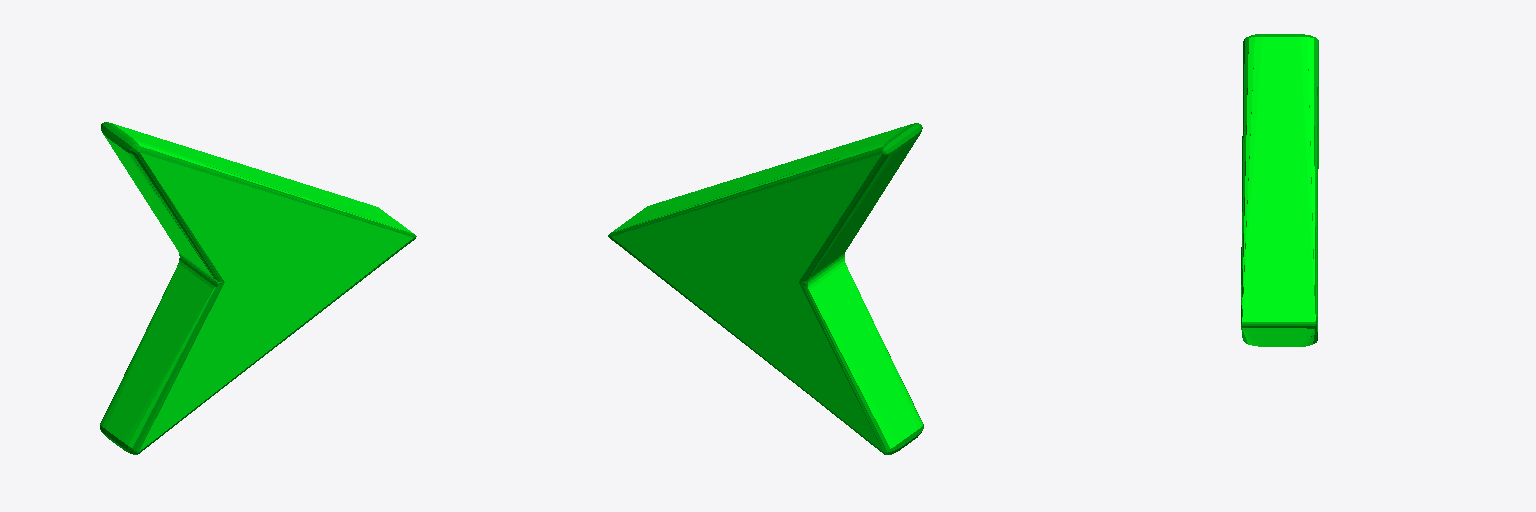
File: arrow0.obj
The picture shows the model from 3 angles: view 1: azimuth 30°, elevation 25°; view 2: azimuth 150°, elevation 25°; view 3: azimuth 270°, elevation 25°; orthographic projection.
Parts seen in each view (by area): view 1: Object.1; view 2: Object.1; view 3: Object.1.
Boxes of the visible parts, box(x1,y1,x2,y2) form: Object.1: box(100, 122, 416, 454); Object.1: box(608, 123, 923, 454); Object.1: box(1241, 34, 1318, 346).
Bounding box in the file's own units: 1.32 × 1.38 × 0.3145.